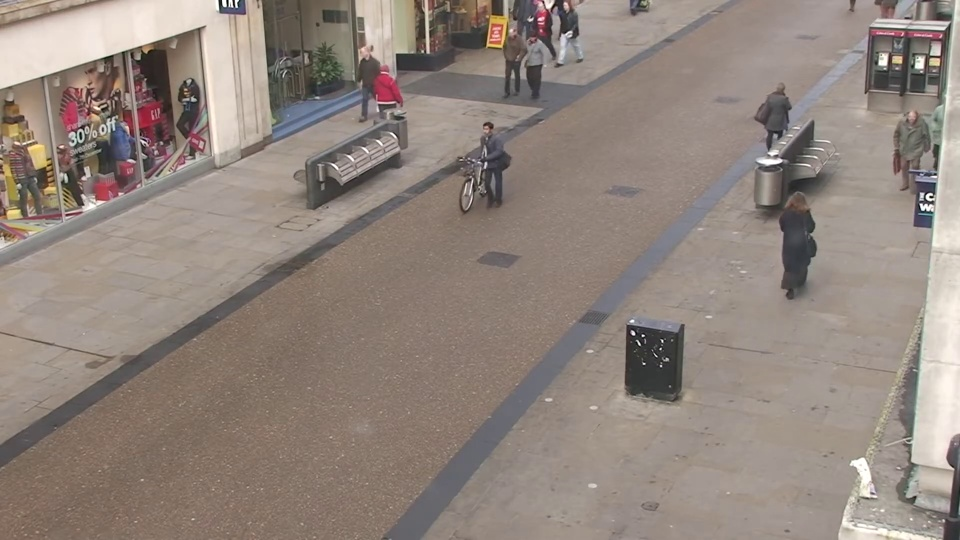pedestrian: (777, 185, 820, 300), (885, 109, 929, 207), (467, 121, 500, 219), (765, 78, 797, 165), (379, 60, 407, 139), (348, 45, 376, 120), (518, 32, 543, 104), (497, 27, 522, 98)
